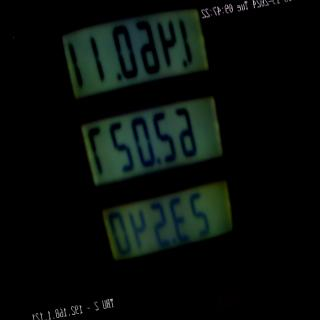screen: (50, 0, 255, 304)
